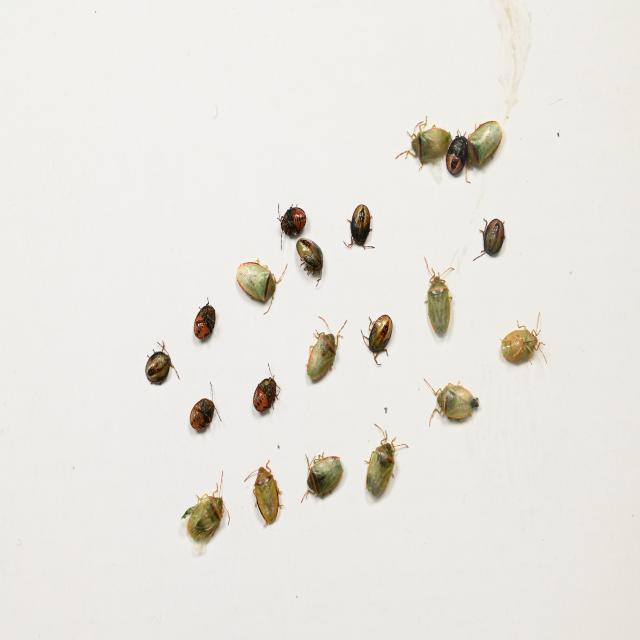stinkbug: (179, 469, 230, 558), (394, 115, 452, 178), (362, 422, 409, 497), (237, 257, 288, 320), (305, 310, 348, 383), (243, 458, 284, 528), (500, 311, 548, 367), (422, 256, 455, 336), (466, 116, 502, 184), (301, 450, 344, 506)
